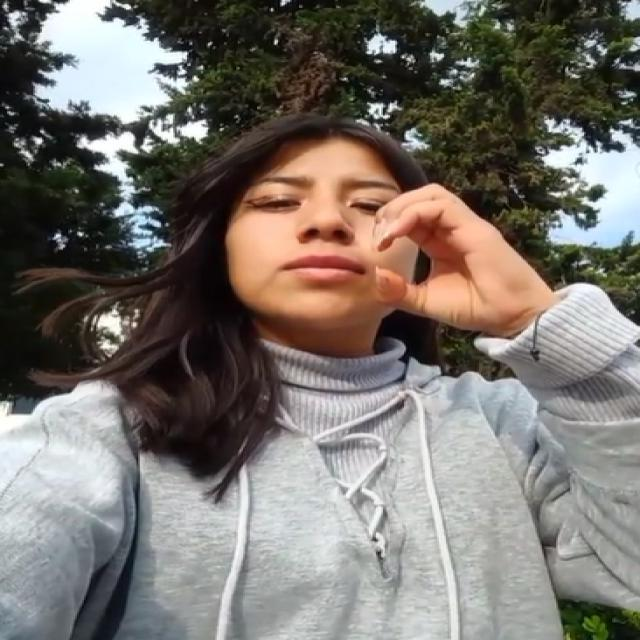C: (342, 174, 540, 342)
